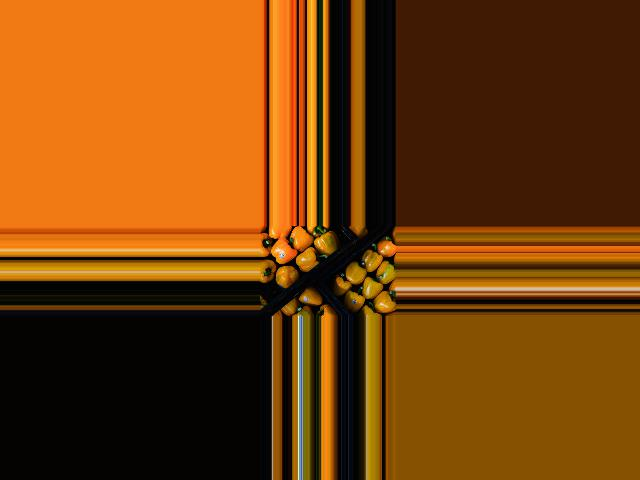bell_pepper: (368, 293, 395, 317)
